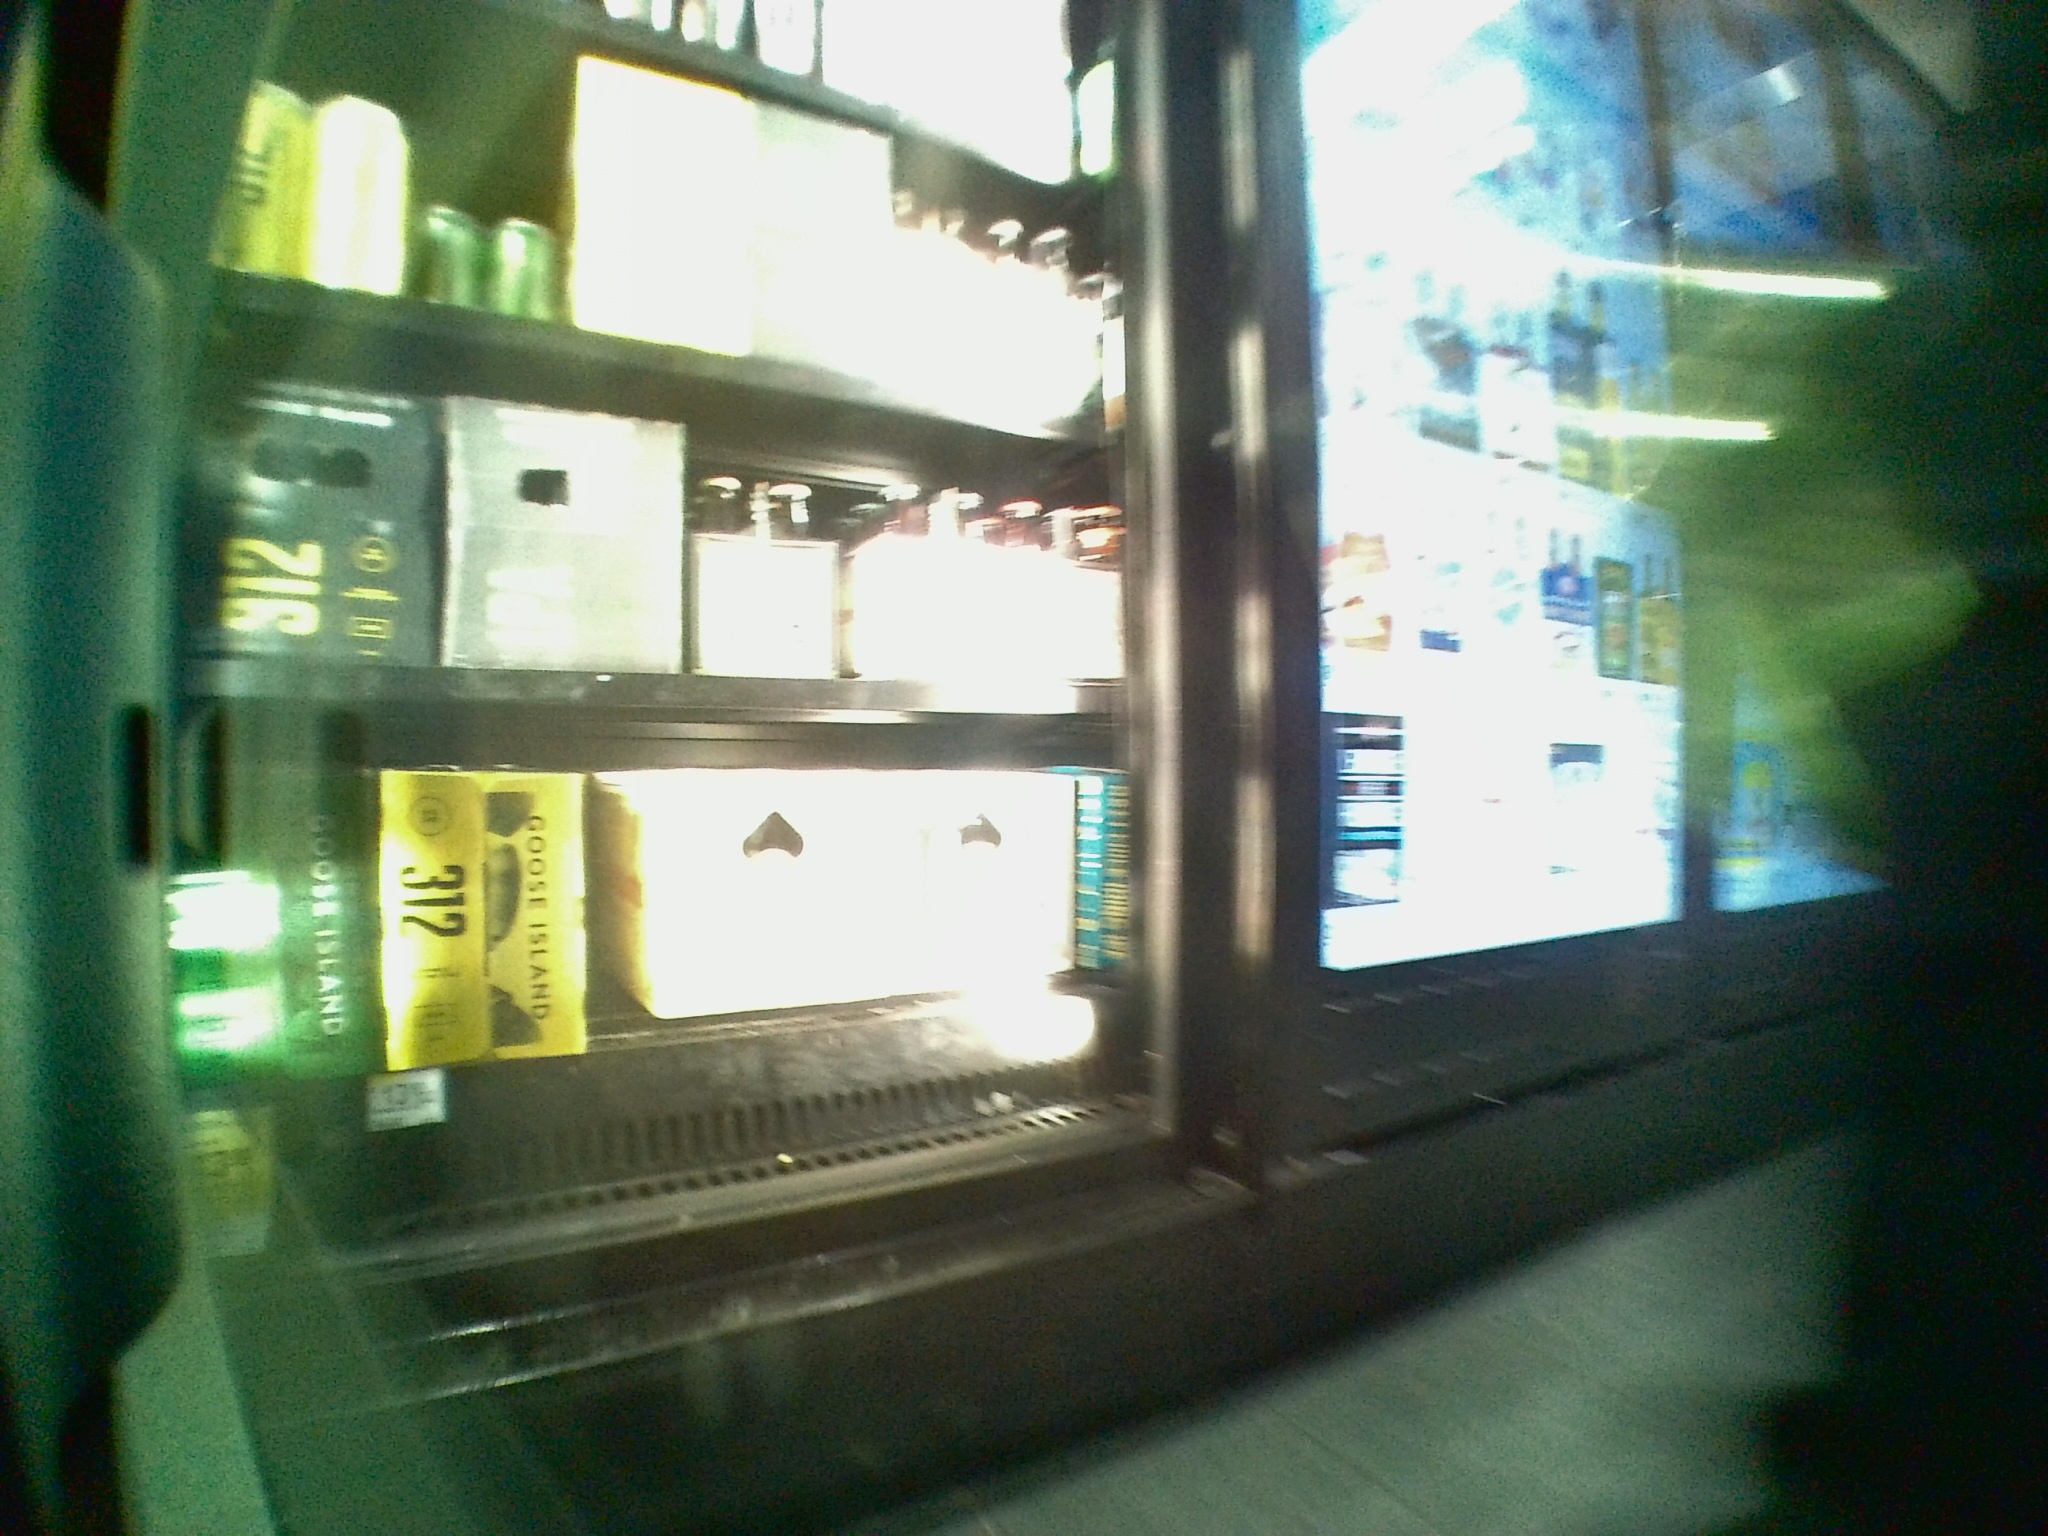shelf: (189, 321, 1124, 726), (194, 733, 1132, 1089)
